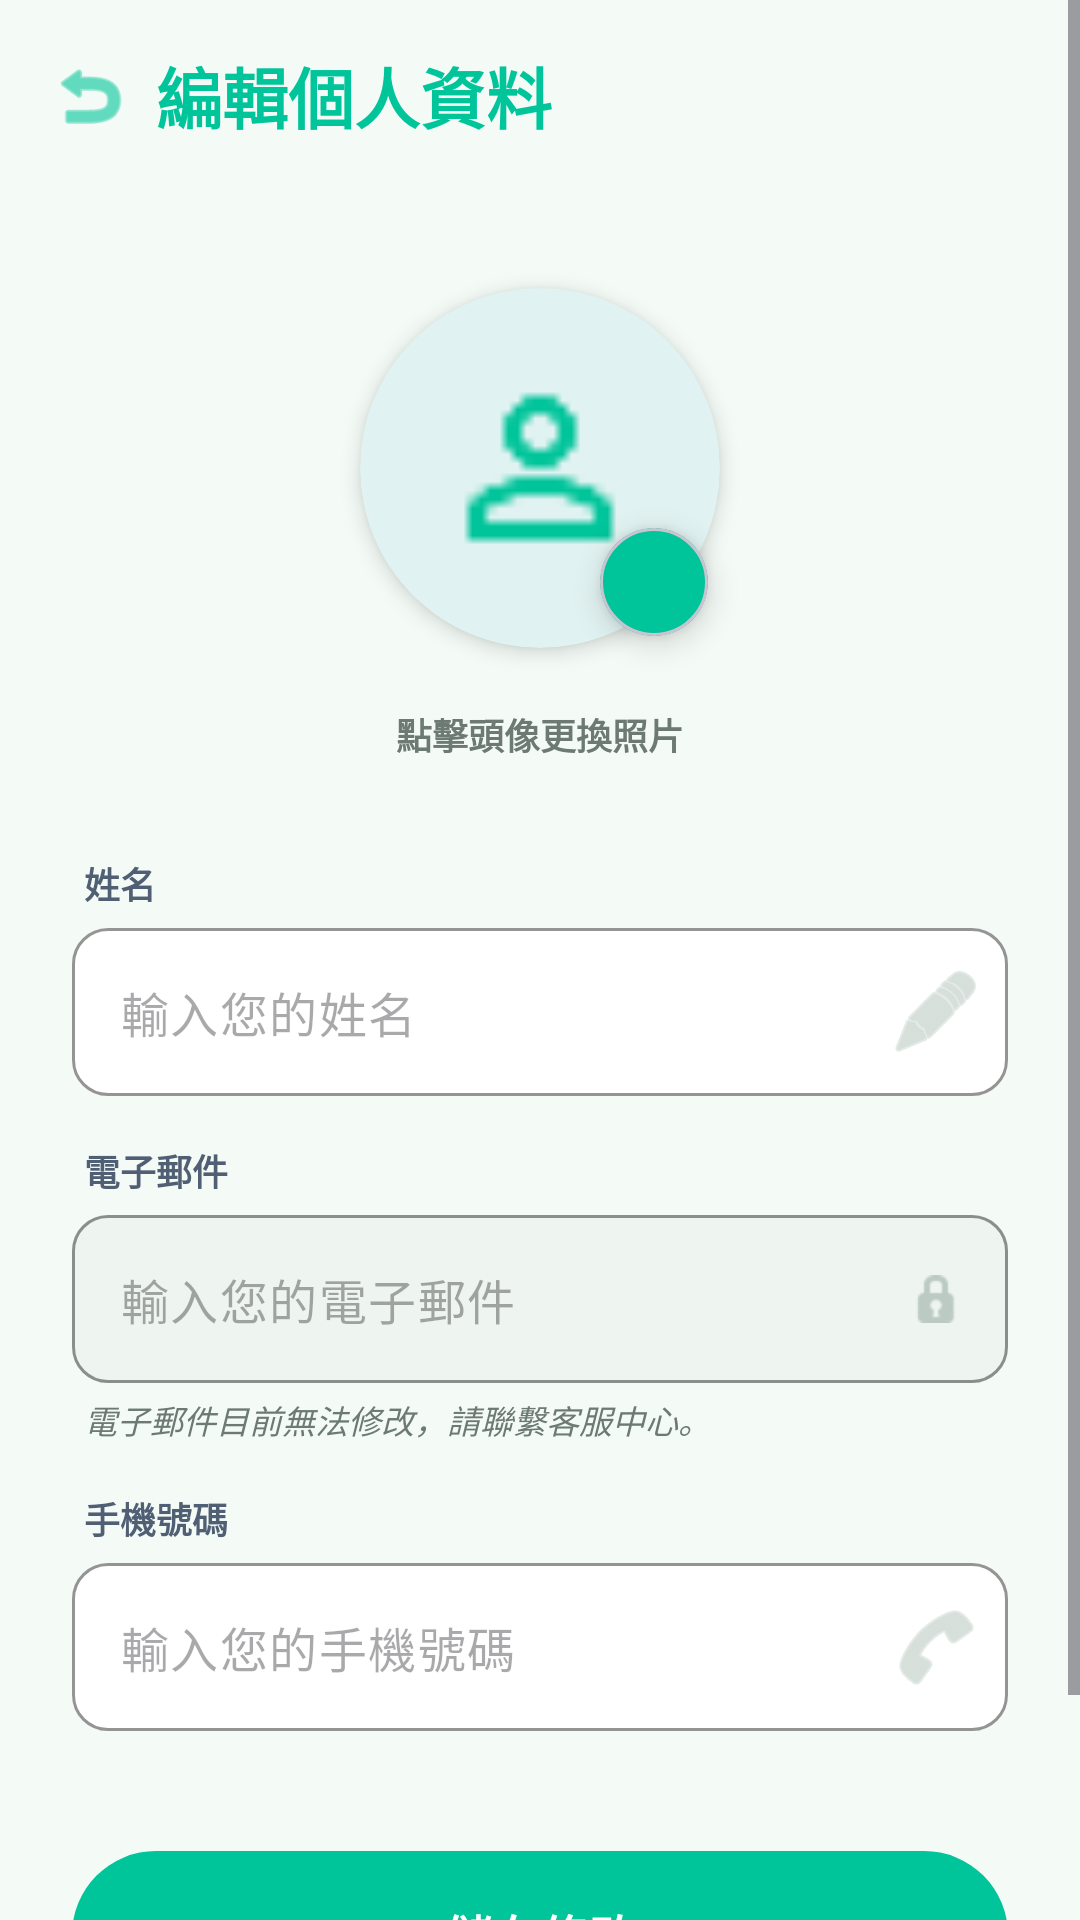

Icon click points for this 1080 x 1920 phone screenshot, format [x,y]:
person: [540,468]
revert: [91,96]
